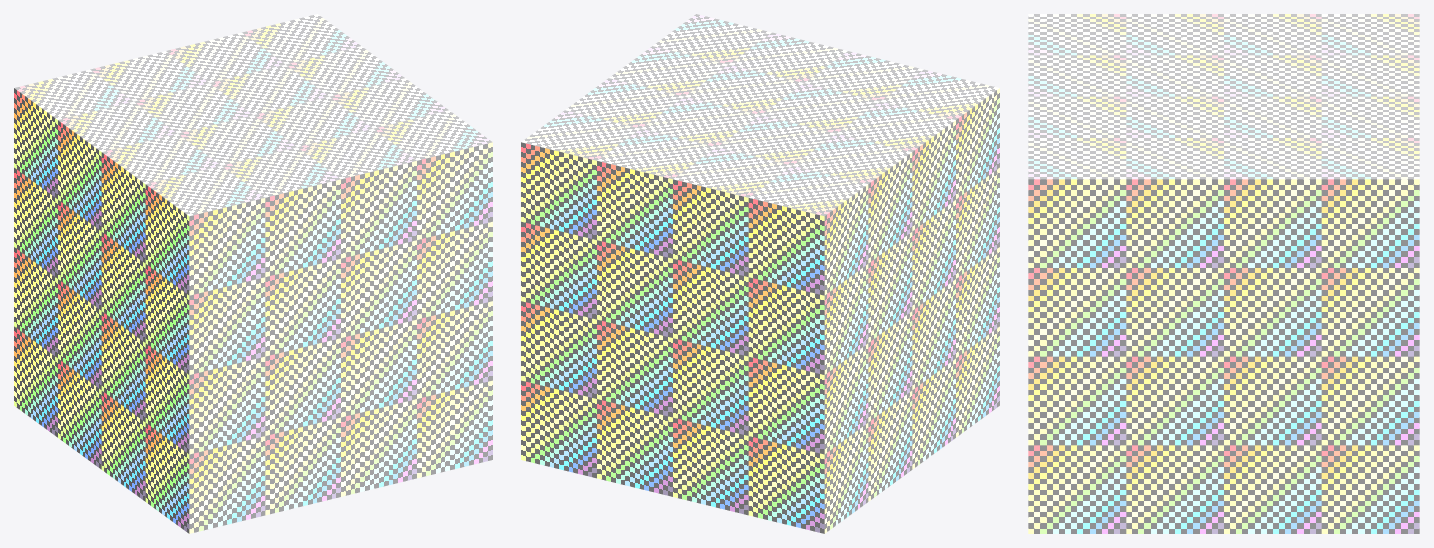
Rendered from 1 G TIle.glb.
3 views of the same model, side by side, from view 1: azimuth 30°, elevation 25°; view 2: azimuth 150°, elevation 25°; view 3: azimuth 270°, elevation 25° (orthographic). The views are drawn at different scales.
Parts seen in each view (by area): view 1: Cube; view 2: Cube; view 3: Cube.
Part boxes in pixels (<box>): Cube: <box>14,14,492,533</box>; Cube: <box>521,14,999,533</box>; Cube: <box>1028,14,1419,533</box>.
Size of the model in its own units: 2 by 2 by 2.
